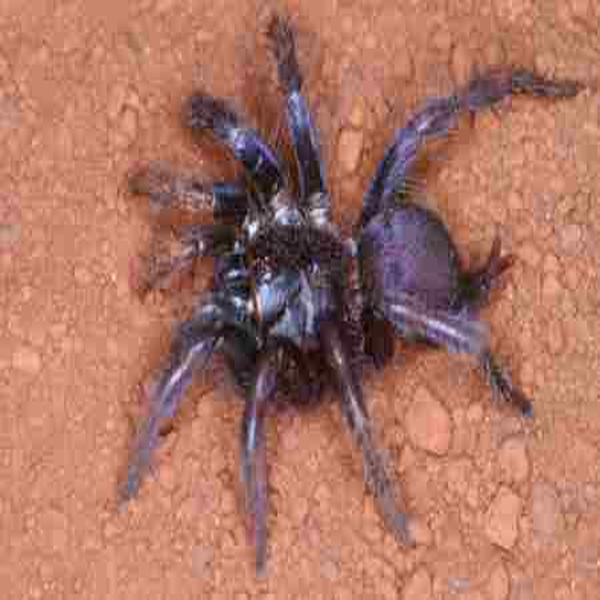Tarantula Spider: (133, 28, 527, 541)
